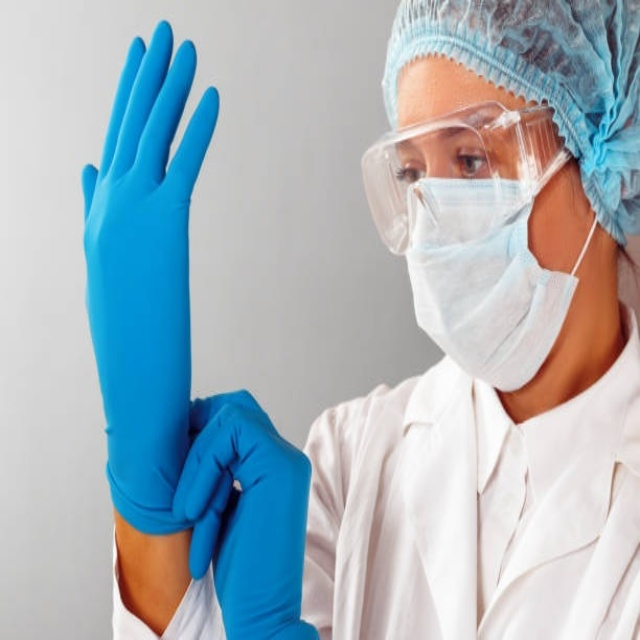Gafas: (358, 101, 570, 256)
Guantes: (80, 15, 217, 530), (170, 386, 324, 640)
Mascara: (397, 173, 585, 405)
